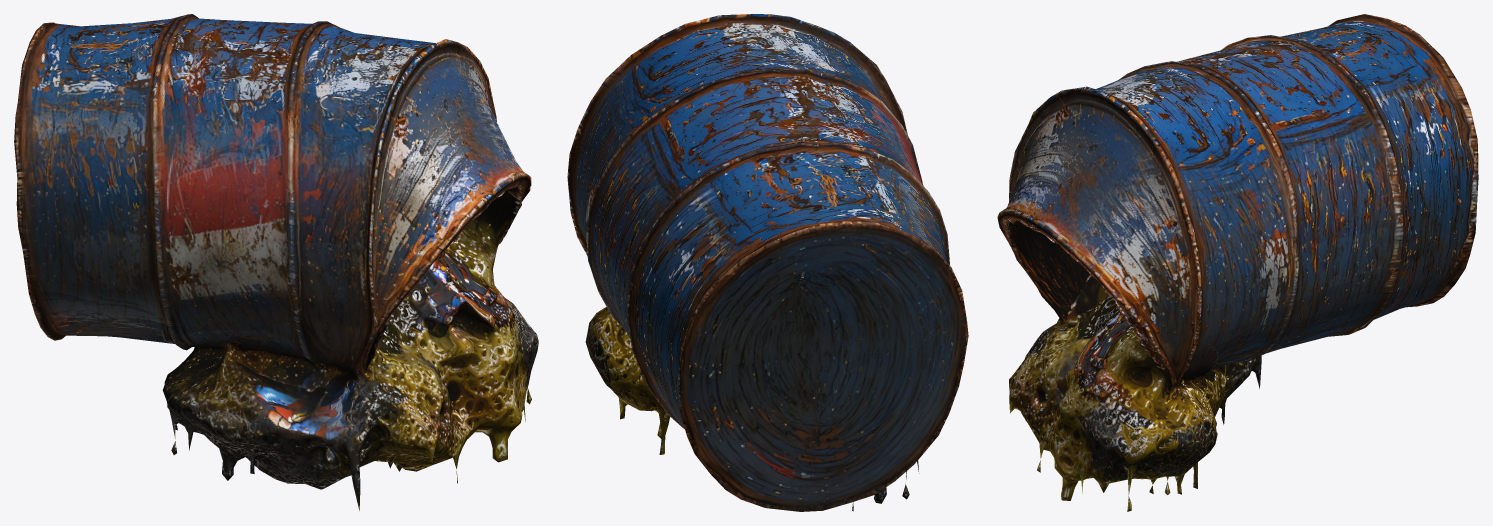
The model's file is sample_chemicalbarrel.fbx.
The picture shows the model from 3 angles, left to right: view 1: azimuth 30°, elevation 25°; view 2: azimuth 150°, elevation 25°; view 3: azimuth 270°, elevation 25°; orthographic projection. The views are drawn at different scales.
Parts seen in each view (by area): view 1: input; view 2: input; view 3: input.
Part boxes in pixels (<box>): input: <box>14,14,538,510</box>; input: <box>567,14,968,511</box>; input: <box>997,14,1478,511</box>.
Size of the model in its own units: 97.87 by 88.05 by 99.66.
1 material, 1 textured.
